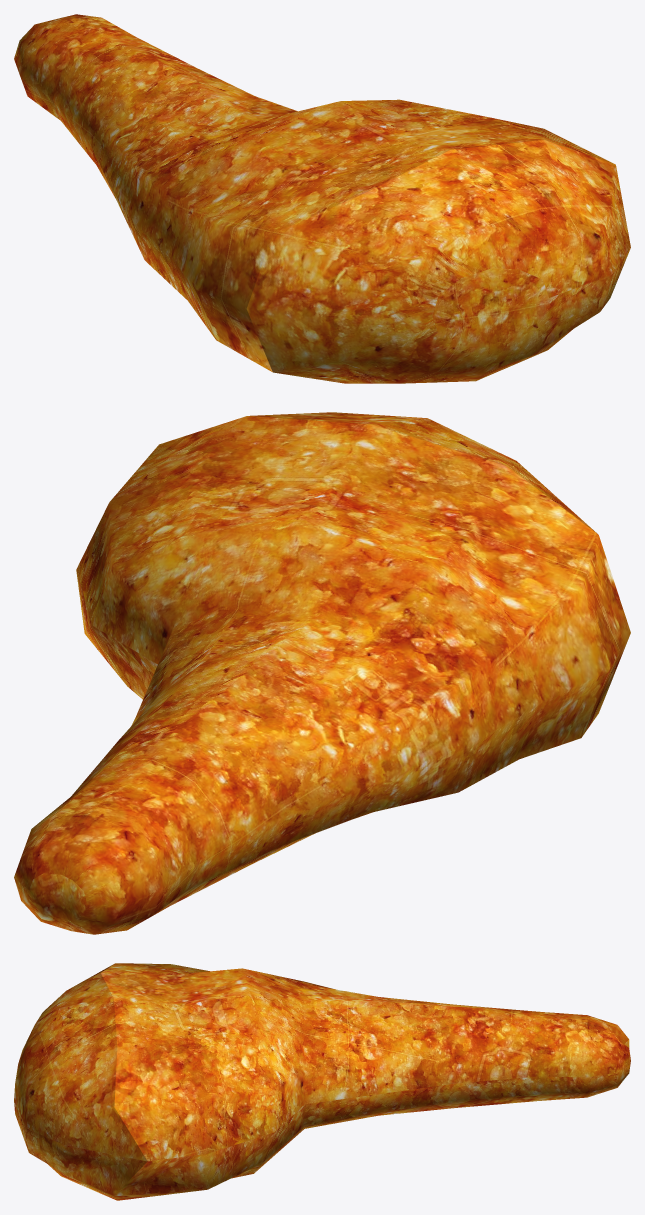
File: fried_00.FBX
The picture shows the model from 3 angles, top to bottom: view 1: azimuth 30°, elevation 25°; view 2: azimuth 150°, elevation 25°; view 3: azimuth 270°, elevation 25°; orthographic projection. The views are drawn at different scales.
Visible parts, largest first — view 1: OilTank001; view 2: OilTank001; view 3: OilTank001.
Boxes of the visible parts, bbox=[...] form: OilTank001: bbox=[14, 14, 630, 383]; OilTank001: bbox=[14, 412, 630, 934]; OilTank001: bbox=[14, 963, 630, 1200].
Size of the model in its own units: 21.43 by 11.07 by 35.01.
Materials: 1 (1 with a texture image).
